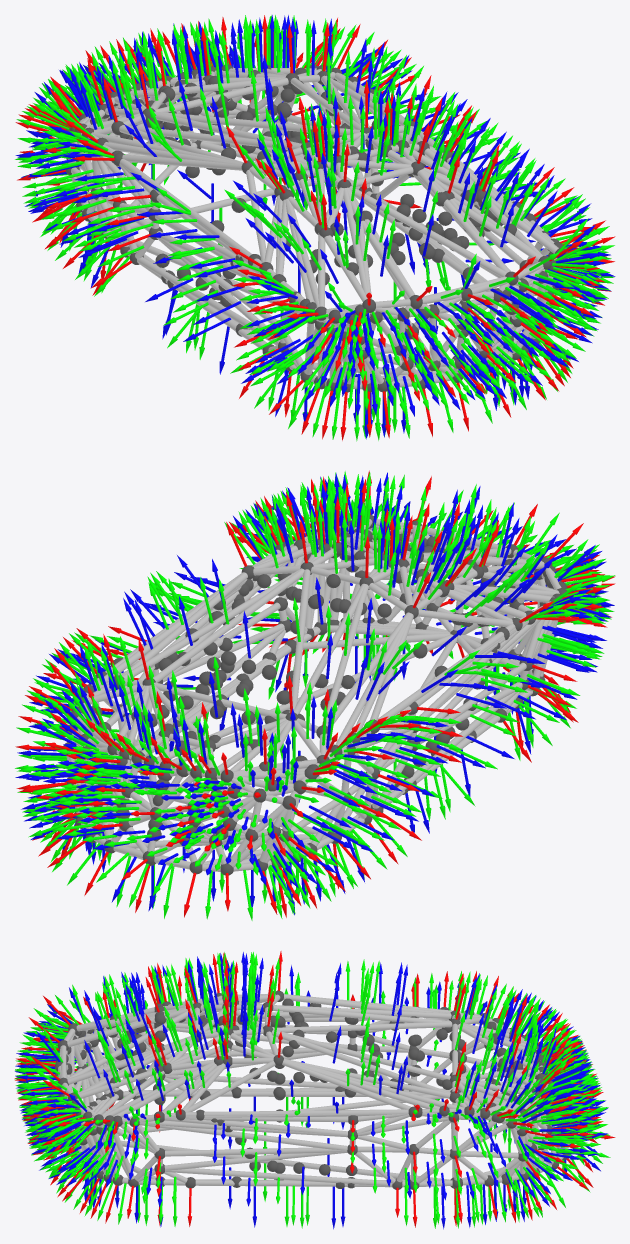
Rendered from ils_car5.gltf.
The picture shows the model from 3 angles, top to bottom: view 1: azimuth 30°, elevation 25°; view 2: azimuth 150°, elevation 25°; view 3: azimuth 270°, elevation 25°; orthographic projection. The views are drawn at different scales.
Bounding box in the file's own units: 0.5761 × 0.3921 × 1.04.
